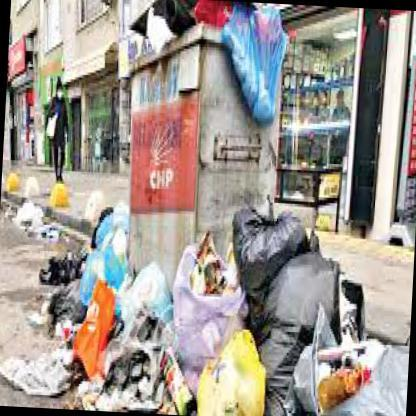Garbage: (222, 208, 348, 415), (213, 299, 411, 415), (188, 235, 287, 415), (130, 266, 199, 413), (220, 3, 291, 120), (80, 230, 134, 354), (0, 343, 80, 395)
